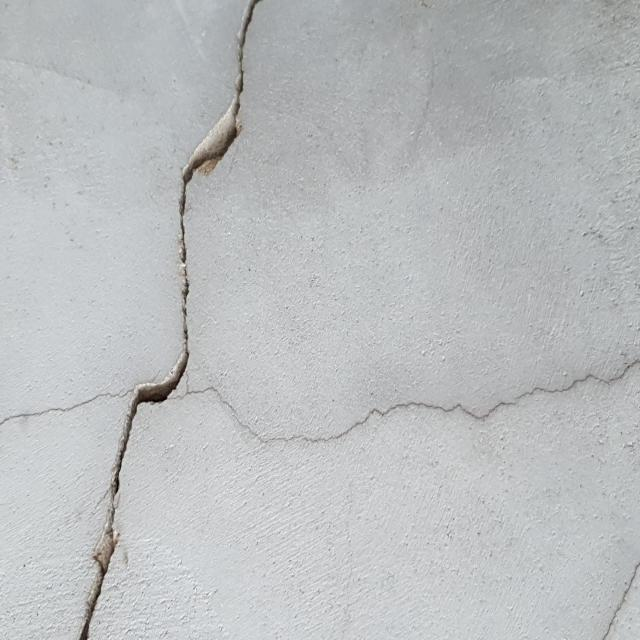SurfaceCrack: (22, 0, 310, 640), (1, 325, 639, 466)
